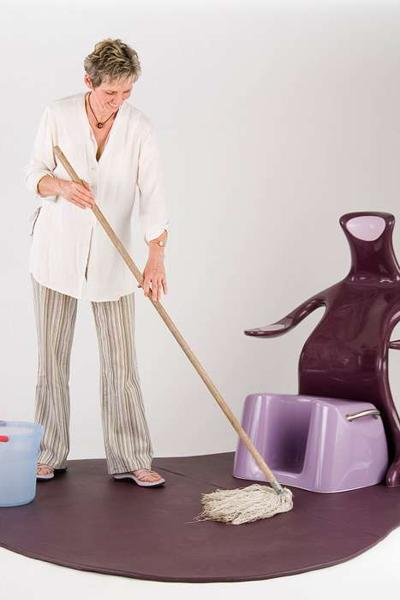person: (25, 39, 170, 493)
